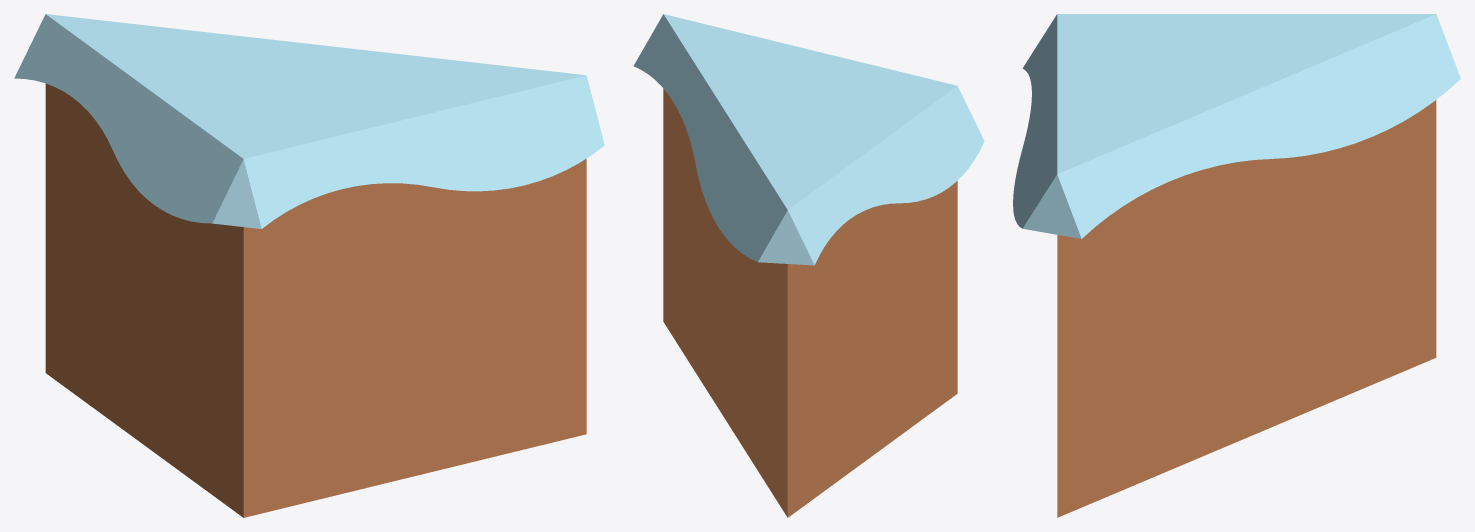
The model's file is blockSnowCornerLarge.glb.
The picture shows the model from 3 angles, left to right: view 1: azimuth 30°, elevation 25°; view 2: azimuth 150°, elevation 25°; view 3: azimuth 270°, elevation 25°; orthographic projection. The views are drawn at different scales.
Visible parts, largest first — view 1: blockSnowCornerLarge; view 2: blockSnowCornerLarge; view 3: blockSnowCornerLarge.
Part boxes in pixels (x1,y1,x2,y2): blockSnowCornerLarge: (14, 14, 604, 517); blockSnowCornerLarge: (633, 14, 984, 517); blockSnowCornerLarge: (1013, 14, 1460, 517).
Bounding box in the file's own units: 1.18 × 1 × 1.18.
